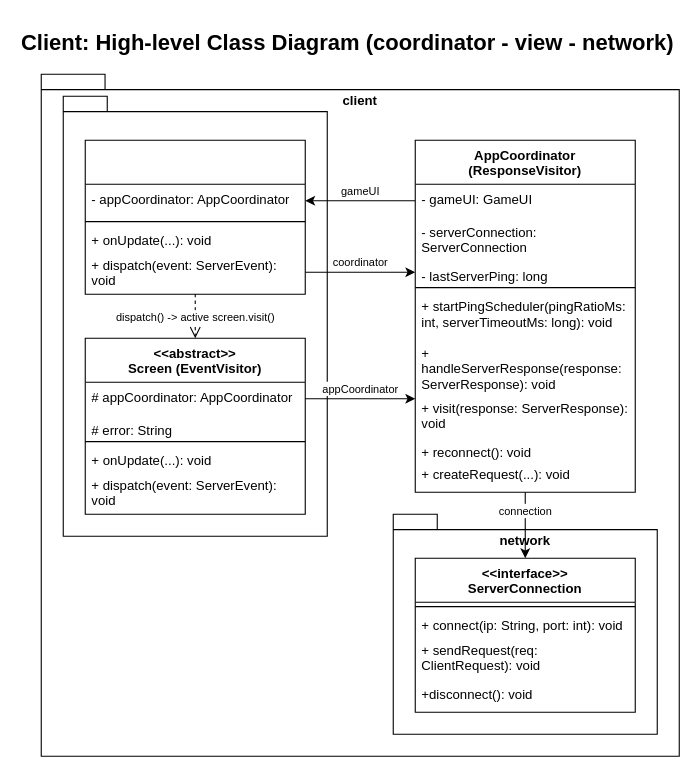
Image size: 699x776. Some labels were removed from this diagram. Each missing label, with the box of its shape:
<<abstract>> GameUI: (84, 139, 305, 294)
view: (62, 95, 327, 536)
